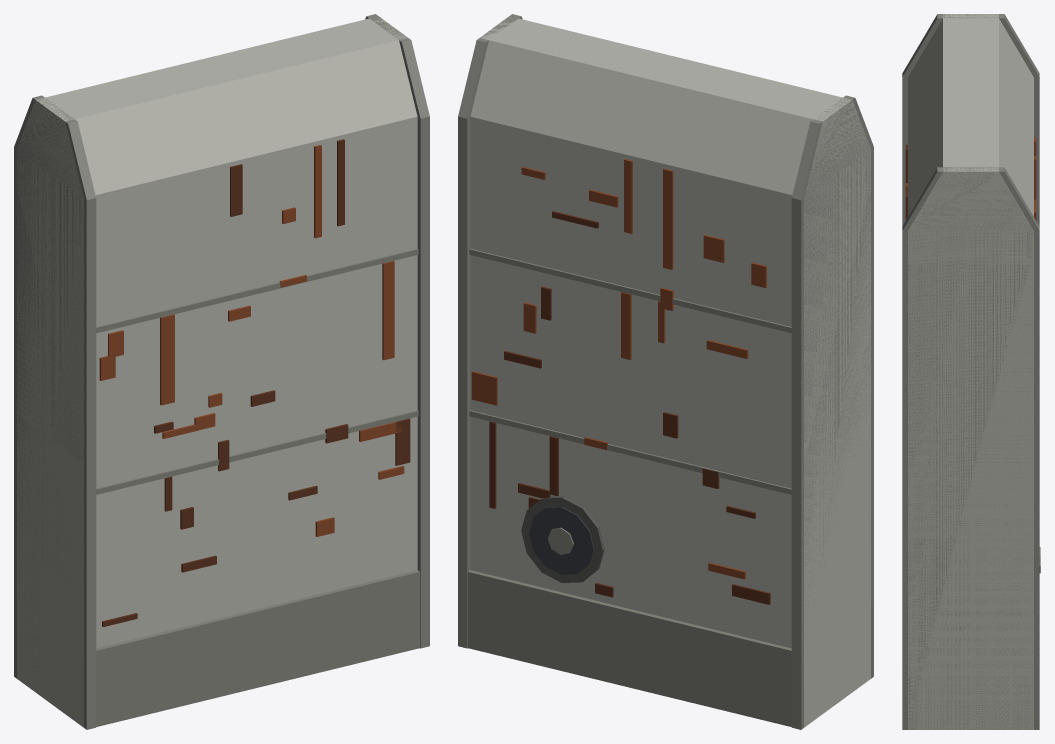
The model's file is fort_ring_wall.glb.
The picture shows the model from 3 angles, left to right: view 1: azimuth 30°, elevation 25°; view 2: azimuth 150°, elevation 25°; view 3: azimuth 270°, elevation 25°; orthographic projection. The views are drawn at different scales.
Parts seen in each view (by area): view 1: fort_ring_wall; view 2: fort_ring_wall; view 3: fort_ring_wall.
Part boxes in pixels (bbox=[...]): fort_ring_wall: bbox=[14, 14, 429, 729]; fort_ring_wall: bbox=[458, 14, 873, 729]; fort_ring_wall: bbox=[902, 14, 1040, 729].
Bounding box in the file's own units: 8 × 13.2 × 2.96.
